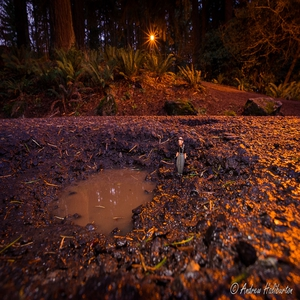pothole: (43, 158, 182, 254)
